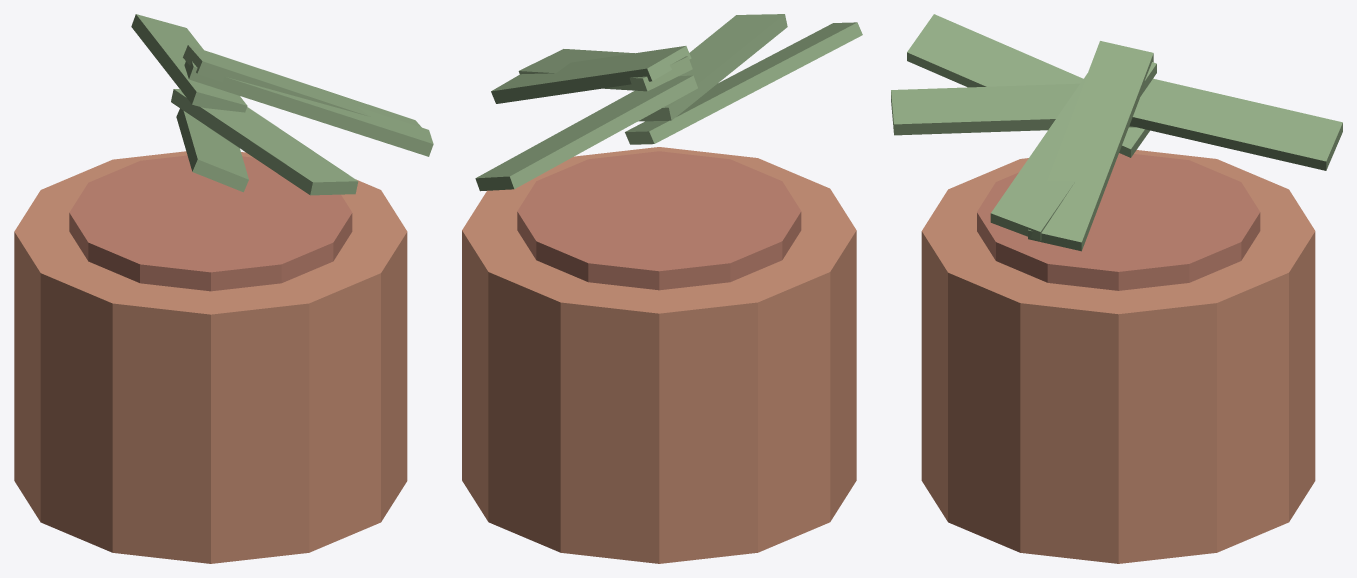
File: mdl_objects_terracotta_pot_001.glb
3 views of the same model, side by side, from view 1: azimuth 30°, elevation 25°; view 2: azimuth 150°, elevation 25°; view 3: azimuth 270°, elevation 25° (orthographic).
Visible parts, largest first — view 1: m_teja, m_tierra_roja, m_manigua_claro; view 2: m_teja, m_tierra_roja, m_manigua_claro; view 3: m_teja, m_manigua_claro, m_tierra_roja.
Part boxes in pixels (x1,y1,x2,y2): m_teja: [14, 151, 407, 563]; m_tierra_roja: [69, 155, 352, 291]; m_manigua_claro: [131, 14, 433, 195]; m_teja: [462, 147, 856, 563]; m_tierra_roja: [517, 151, 801, 290]; m_manigua_claro: [475, 14, 862, 191]; m_teja: [921, 150, 1315, 563]; m_manigua_claro: [891, 14, 1342, 251]; m_tierra_roja: [977, 153, 1260, 290].
Bounding box in the file's own units: 0.5903 × 0.6816 × 0.6472.
